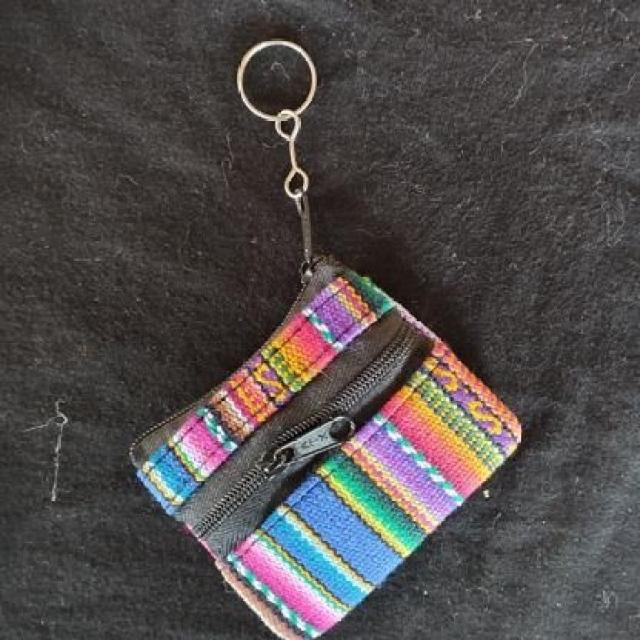Llavero: (128, 254, 523, 640)
